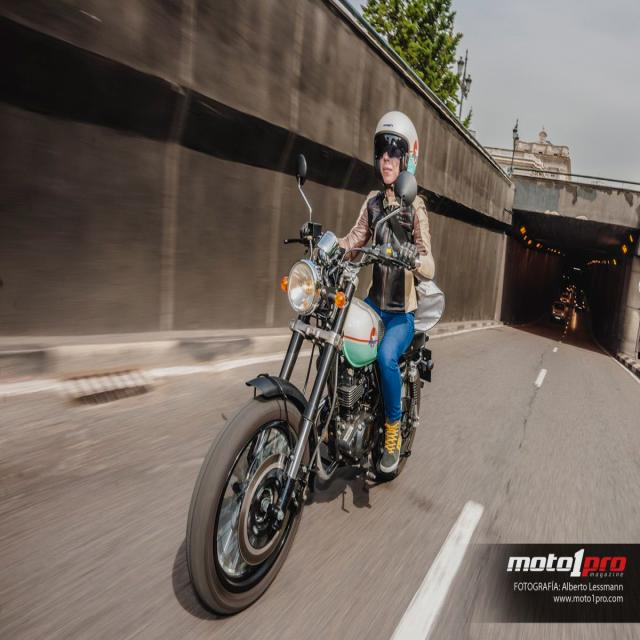MOTORCYCLE: (184, 242, 427, 616)
